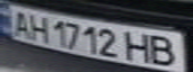1: (45, 17, 69, 47), (78, 24, 100, 55)
2: (96, 25, 121, 60)
7: (60, 20, 81, 51)
A: (6, 8, 36, 37)
B: (145, 33, 184, 66)
H: (124, 29, 157, 64), (24, 12, 51, 43)
